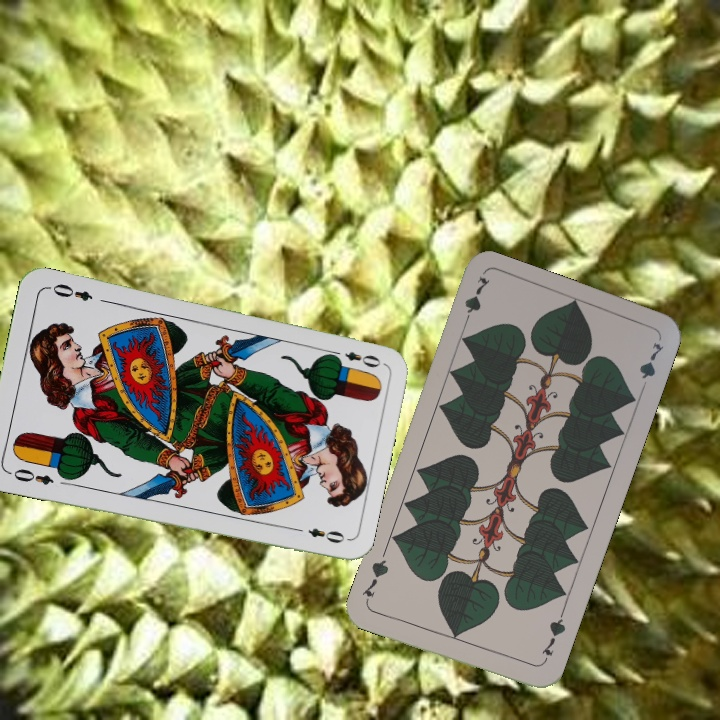EO: (326, 346, 384, 370), (4, 464, 56, 488)
G7: (459, 273, 493, 330), (537, 609, 568, 666)
